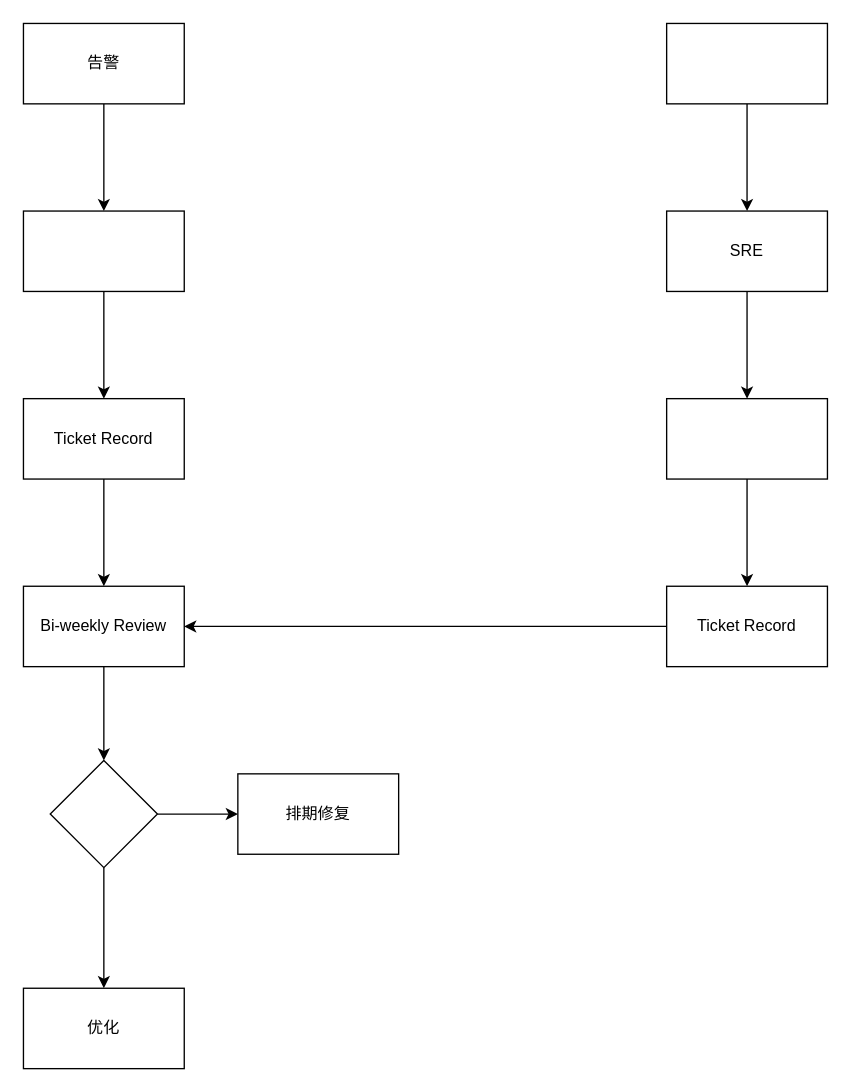
Some shapes in this 851 by 1092 pixel diagram are drawn without their labels. Here are the shapes that lost their labels. From the top down, the centre of each, then its label:
At (x=746, y=63): "巡检".
At (x=103, y=250): "SRE、DEV".
At (x=746, y=438): "Internal review".
At (x=103, y=813): "缺陷".
